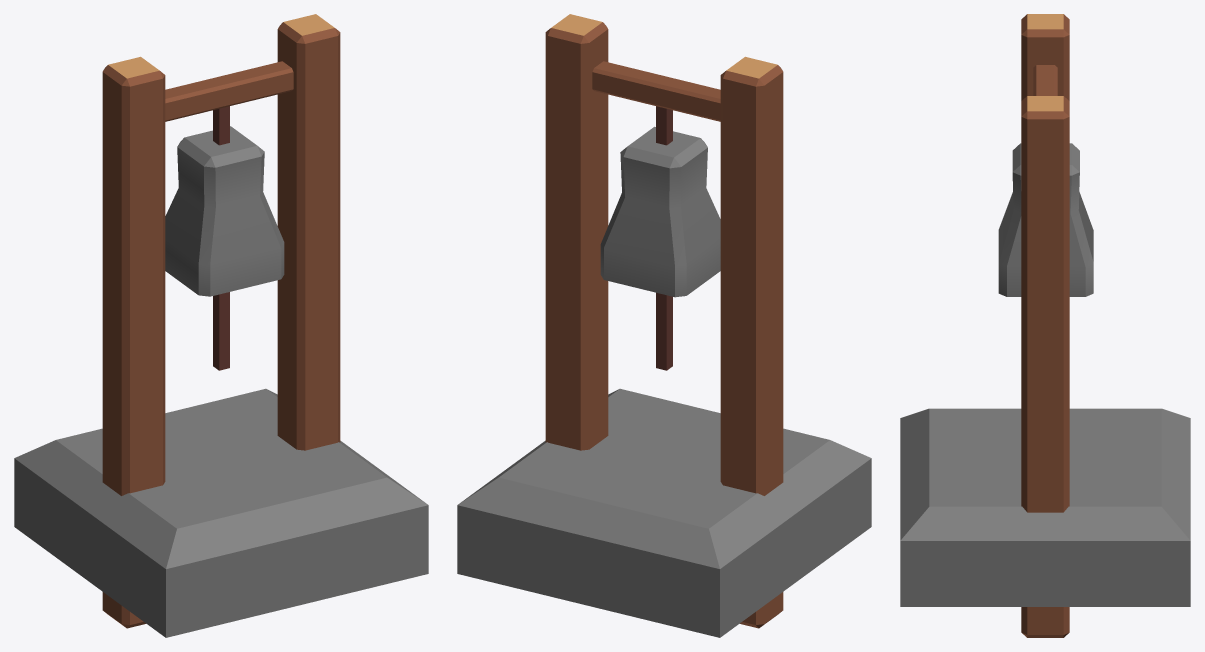
File: Bell.fbx
3 views of the same model, side by side, from view 1: azimuth 30°, elevation 25°; view 2: azimuth 150°, elevation 25°; view 3: azimuth 270°, elevation 25° (orthographic). The views are drawn at different scales.
Visible parts, largest first — view 1: Bell; view 2: Bell; view 3: Bell.
Part boxes in pixels (x1,y1,x2,y2): Bell: [14, 14, 428, 637]; Bell: [457, 14, 871, 637]; Bell: [900, 14, 1190, 637].
Bounding box in the file's own units: 0.6 × 1.2 × 0.6.
